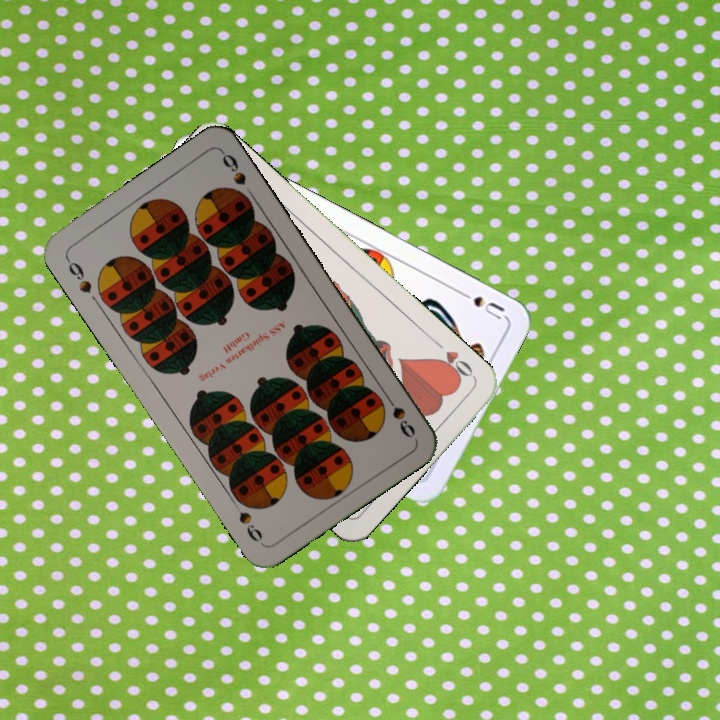HO: (429, 336, 477, 384)
S9: (379, 388, 418, 441), (62, 253, 95, 296)
SU: (453, 286, 507, 323)
